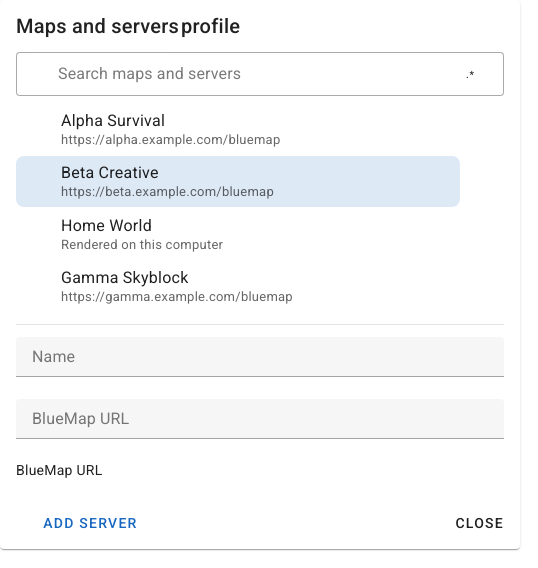
Scenario: the search › says how many of how many are showing, while it is showing fewer
Type "skyblock" into the search field labelled "Search maps and servers" at {"x": 228, "y": 72}, box [52,52,404,92]
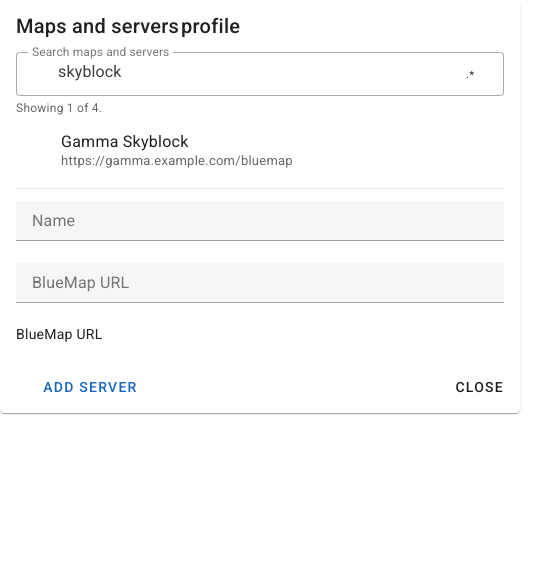
expect the text "Showing 1 of 4" is shown: met, box [16,101,102,115]
